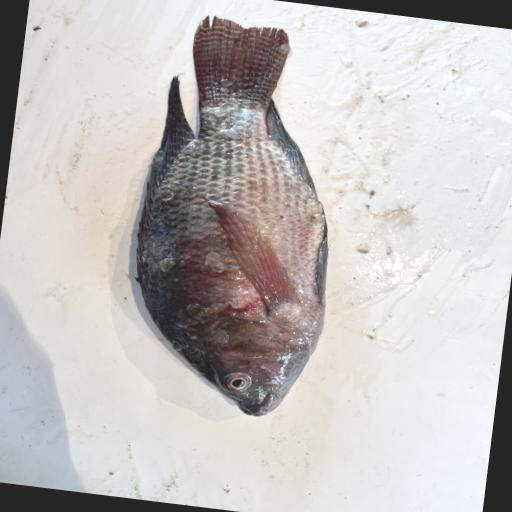Tilapia: (118, 10, 359, 423)
